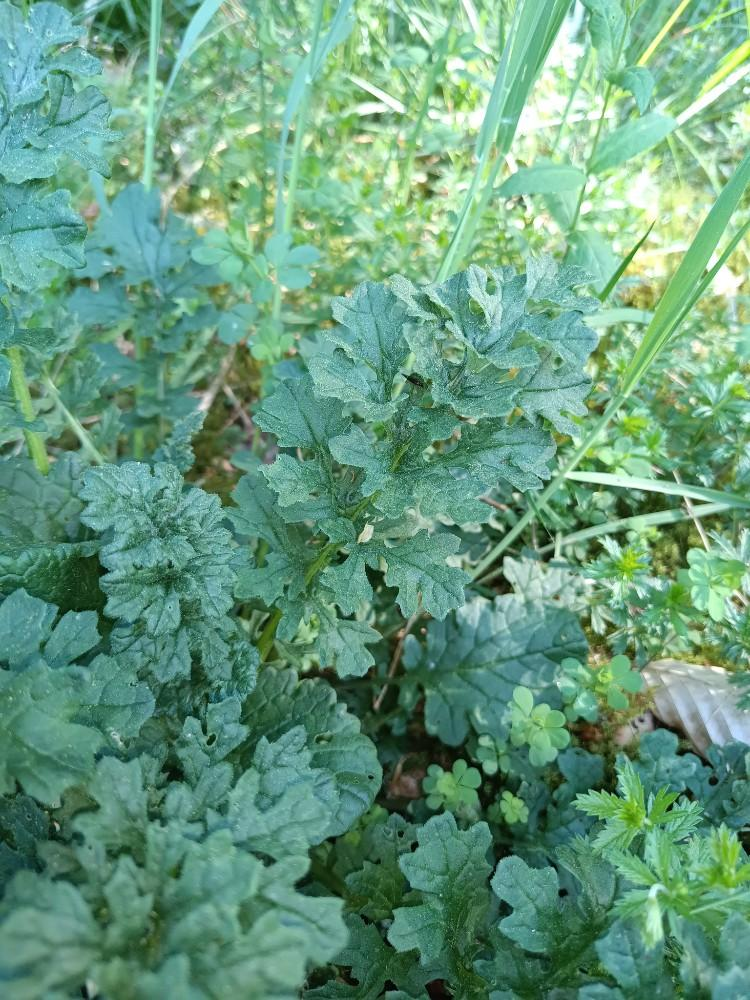Jacobaea vulgaris: (0, 0, 669, 1000)
